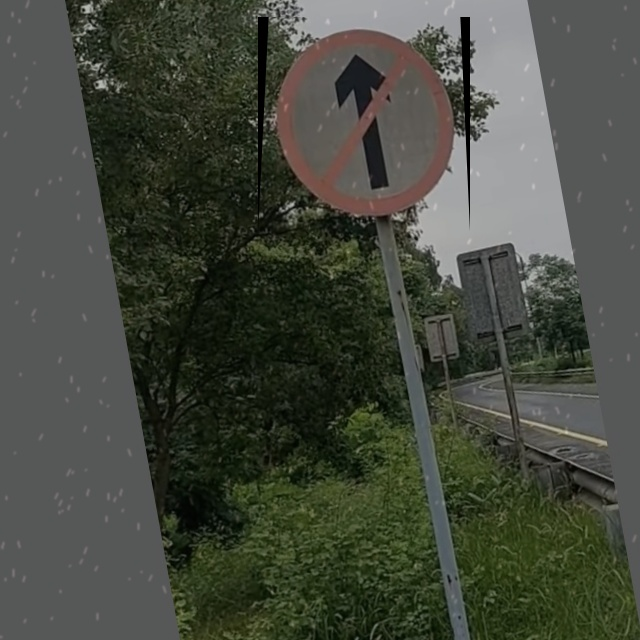No_Entry: (258, 17, 470, 232)
